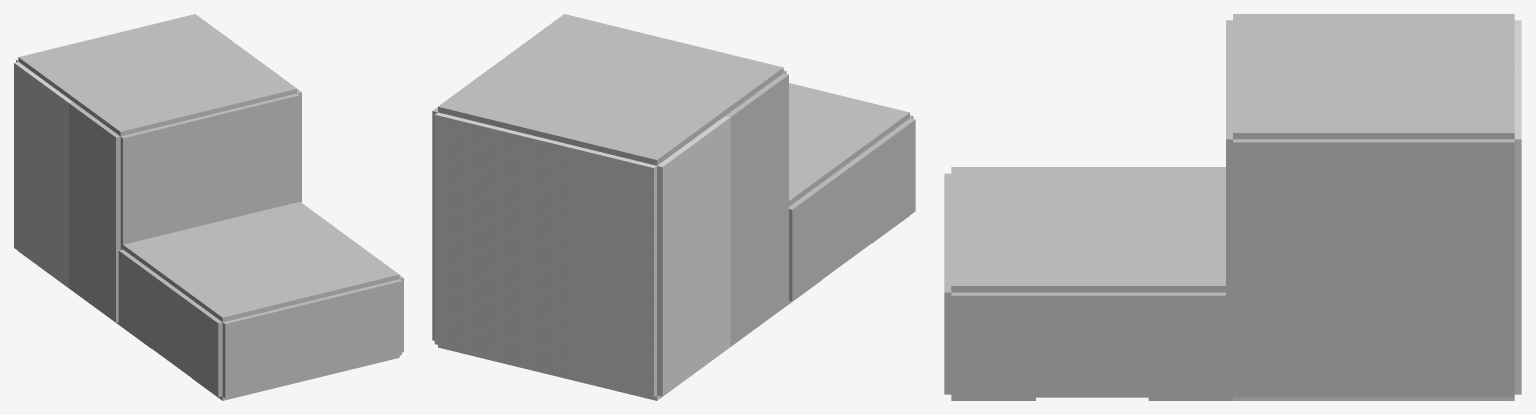
Rendered from level2.obj.
3 views of the same model, side by side, from view 1: azimuth 30°, elevation 25°; view 2: azimuth 150°, elevation 25°; view 3: azimuth 270°, elevation 25° (orthographic). The views are drawn at different scales.
Visible parts, largest first — view 1: Cube.009, Cube.018, Cube.017, Cube.012, Cube.001, Cube.011, Cube.016, Cube.004, Cube.013, Cube.010, Cube.014; view 2: Cube.003, Cube.009, Cube.001, Cube.011, Cube.016, Cube.018, Cube.010, Cube.002, Cube.005; view 3: Cube.005, Cube.009, Cube.018, Cube.015, Cube.003, Cube.012, Cube.017, Cube.002.
Boxes of the visible parts, left/top/right/bottom form: Cube.009: left=18, top=14, right=297, bottom=136; Cube.018: left=123, top=201, right=399, bottom=322; Cube.017: left=222, top=279, right=401, bottom=398; Cube.012: left=183, top=93, right=299, bottom=229; Cube.001: left=14, top=62, right=72, bottom=287; Cube.011: left=71, top=104, right=120, bottom=322; Cube.016: left=118, top=249, right=222, bottom=397; Cube.004: left=120, top=125, right=167, bottom=249; Cube.013: left=165, top=121, right=184, bottom=233; Cube.010: left=69, top=102, right=75, bottom=289; Cube.014: left=192, top=355, right=399, bottom=400; Cube.003: left=434, top=112, right=656, bottom=397; Cube.009: left=438, top=14, right=783, bottom=165; Cube.001: left=657, top=116, right=730, bottom=396; Cube.011: left=728, top=73, right=788, bottom=343; Cube.016: left=789, top=118, right=915, bottom=301; Cube.018: left=789, top=83, right=909, bottom=206; Cube.010: left=725, top=113, right=733, bottom=346; Cube.002: left=438, top=308, right=783, bottom=400; Cube.005: left=432, top=107, right=437, bottom=340; Cube.005: left=1233, top=139, right=1514, bottom=397; Cube.009: left=1233, top=14, right=1514, bottom=139; Cube.018: left=951, top=167, right=1225, bottom=292; Cube.015: left=951, top=292, right=1225, bottom=397; Cube.003: left=1514, top=20, right=1521, bottom=394; Cube.012: left=1226, top=62, right=1232, bottom=394; Cube.017: left=944, top=173, right=951, bottom=394; Cube.002: left=1233, top=397, right=1514, bottom=400.
Size of the model in its own units: 42 by 42 by 82.
Materials: 17 (12 with a texture image).
